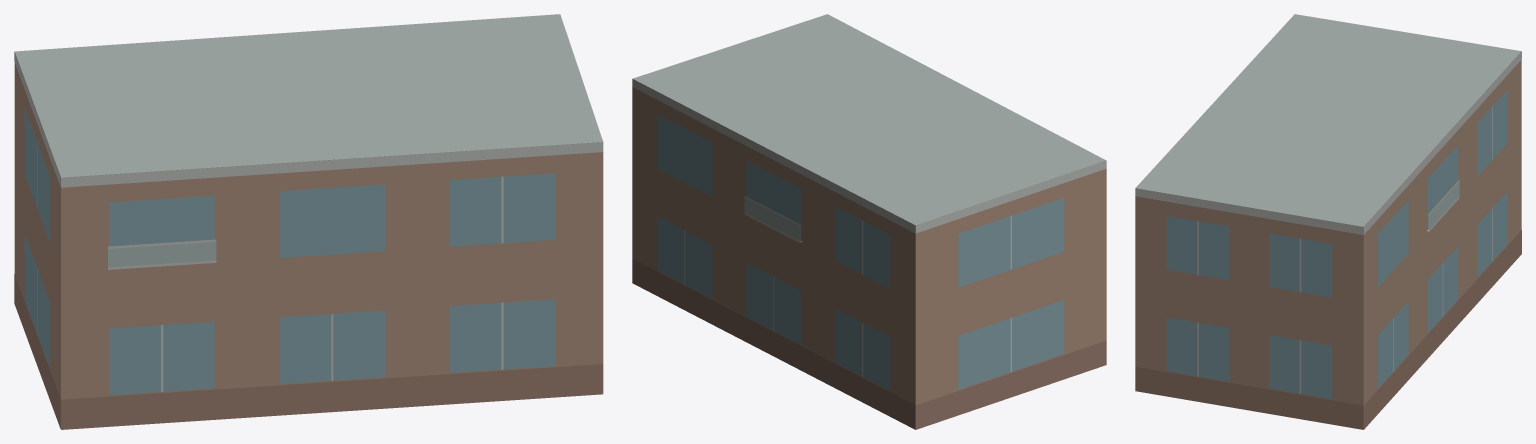
The model's file is survey-upis-32654100.glb.
3 renders of one model, left to right at view 1: azimuth 30°, elevation 25°; view 2: azimuth 150°, elevation 25°; view 3: azimuth 270°, elevation 25°, orthographic. The views are drawn at different scales.
Visible parts, largest first — view 1: survey-upis-32654100.tmp; view 2: survey-upis-32654100.tmp; view 3: survey-upis-32654100.tmp.
Part boxes in pixels (box(x1,y1,x2,y2)): survey-upis-32654100.tmp: box(14, 14, 603, 429); survey-upis-32654100.tmp: box(632, 14, 1106, 429); survey-upis-32654100.tmp: box(1135, 14, 1521, 429).
Size of the model in its own units: 13.73 by 6.1 by 10.53.
